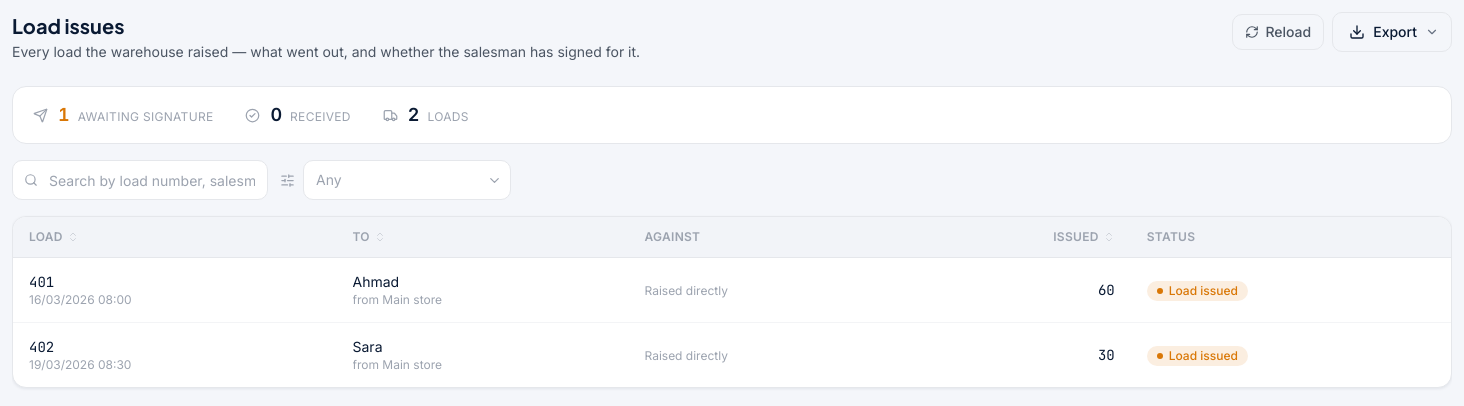
Test: Load issues › finds a document by its number without falling over
Expected: the table is shown, [13,258,1451,387]
Expected: the text "Ahmad" is shown, [352,273,399,290]
Type "402" into the field with placeholder "Search by load number, salesman or warehouse…" at point(140, 180), box [12,160,268,200]
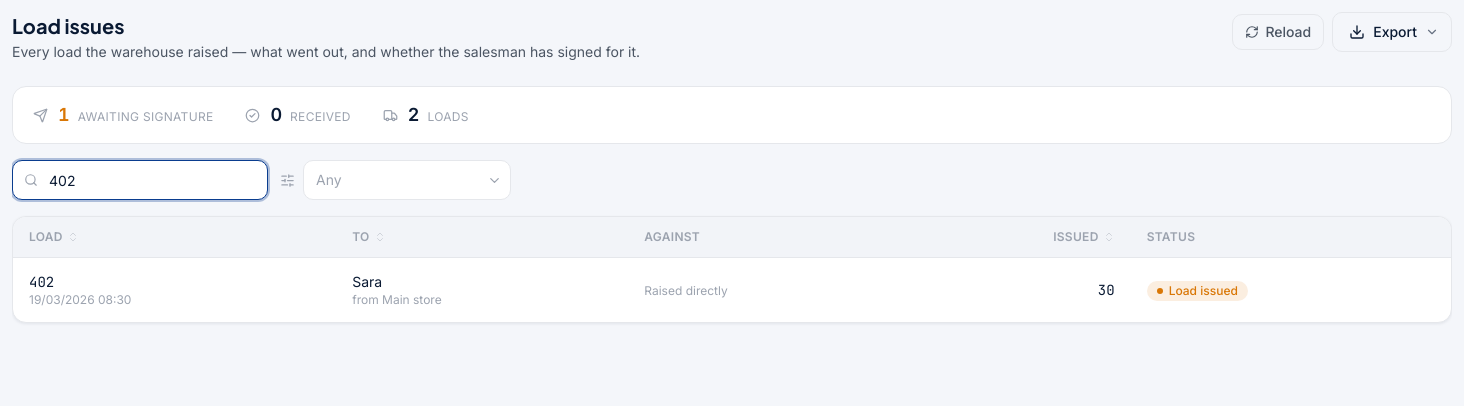
Expected: the text "Sara" is shown, [352,273,382,290]
Expected: the text "Ahmad" is gone
